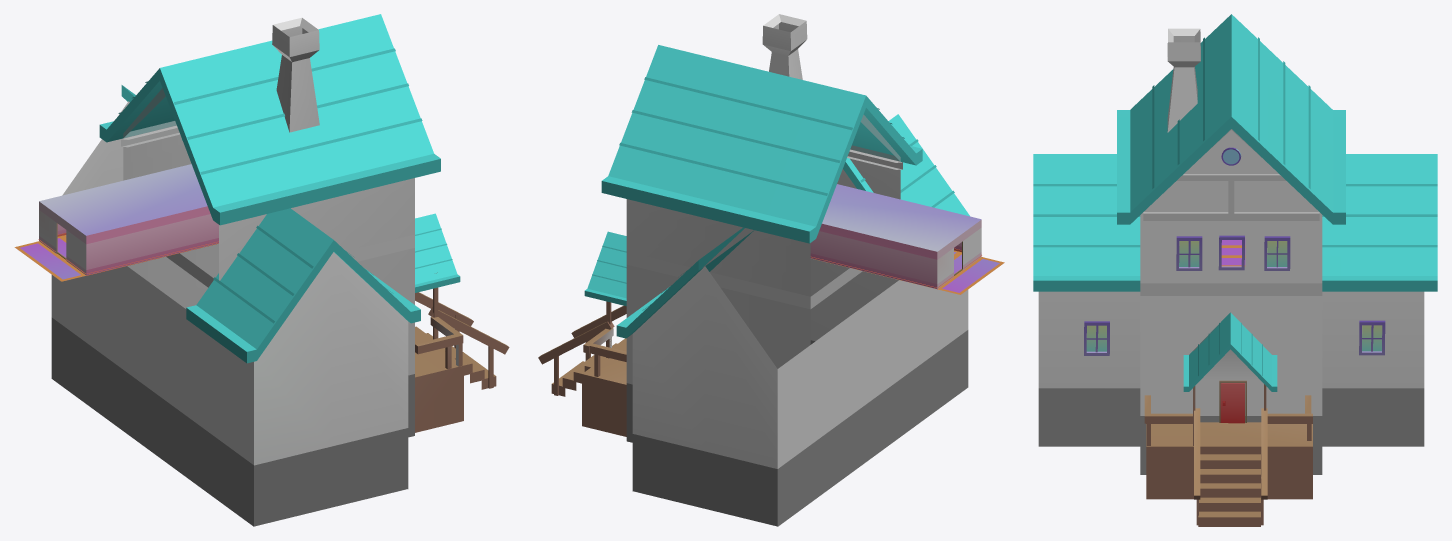
Rendered from house-with-hallway_v02.fbx.
3 renders of one model, left to right at view 1: azimuth 30°, elevation 25°; view 2: azimuth 150°, elevation 25°; view 3: azimuth 270°, elevation 25°, orthographic. The views are drawn at different scales.
Visible parts, largest first — view 1: Cube.480; view 2: Cube.480; view 3: Cube.480.
Part boxes in pixels (bbox=[...]): Cube.480: bbox=[14, 14, 509, 526]; Cube.480: bbox=[538, 14, 1004, 526]; Cube.480: bbox=[1033, 14, 1437, 526].
Bounding box in the file's own units: 35.88 × 31.43 × 29.14.
